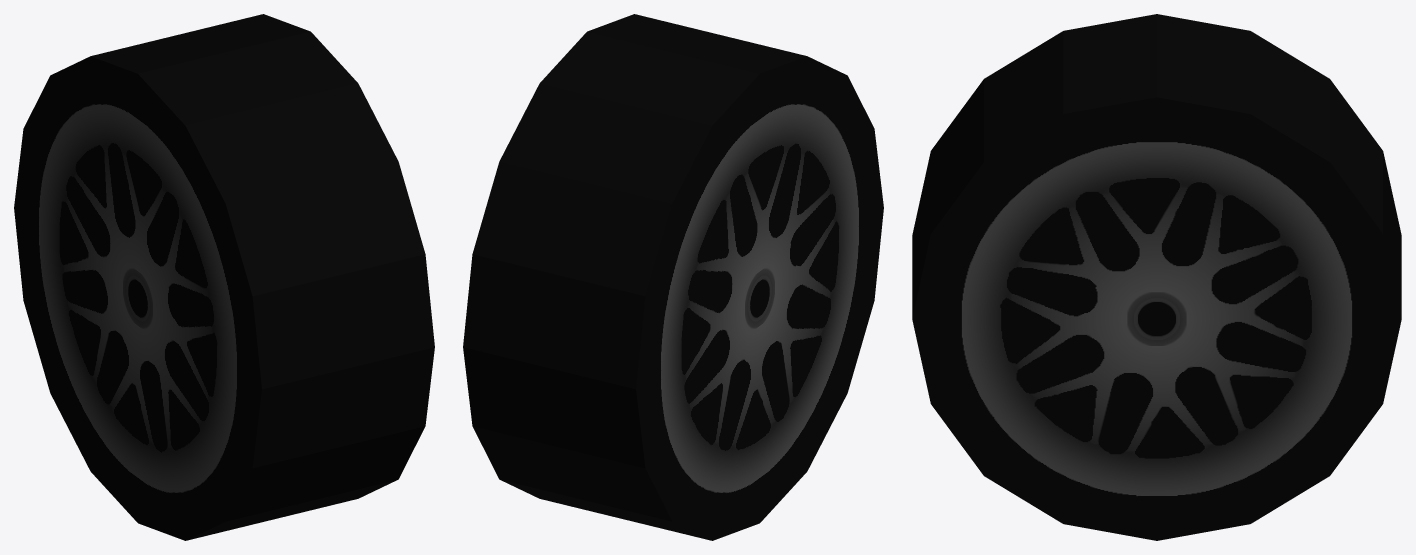
File: wheel.fbx
The picture shows the model from 3 angles, left to right: view 1: azimuth 30°, elevation 25°; view 2: azimuth 150°, elevation 25°; view 3: azimuth 270°, elevation 25°; orthographic projection.
Parts seen in each view (by area): view 1: Cylinder; view 2: Cylinder; view 3: Cylinder.
Boxes of the visible parts, box(x1,y1,x2,y2) form: Cylinder: box(14, 14, 434, 540); Cylinder: box(463, 14, 883, 540); Cylinder: box(912, 14, 1401, 540).
Size of the model in its own units: 80.53 by 200 by 200.
